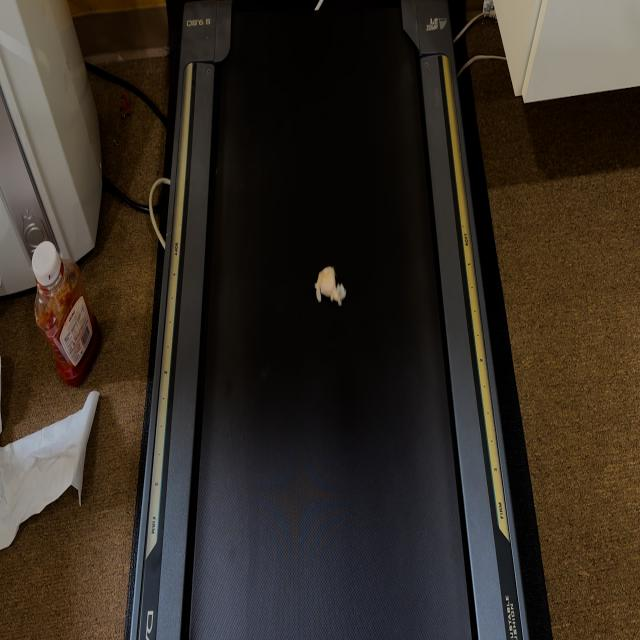Trash: (315, 268, 349, 311)
